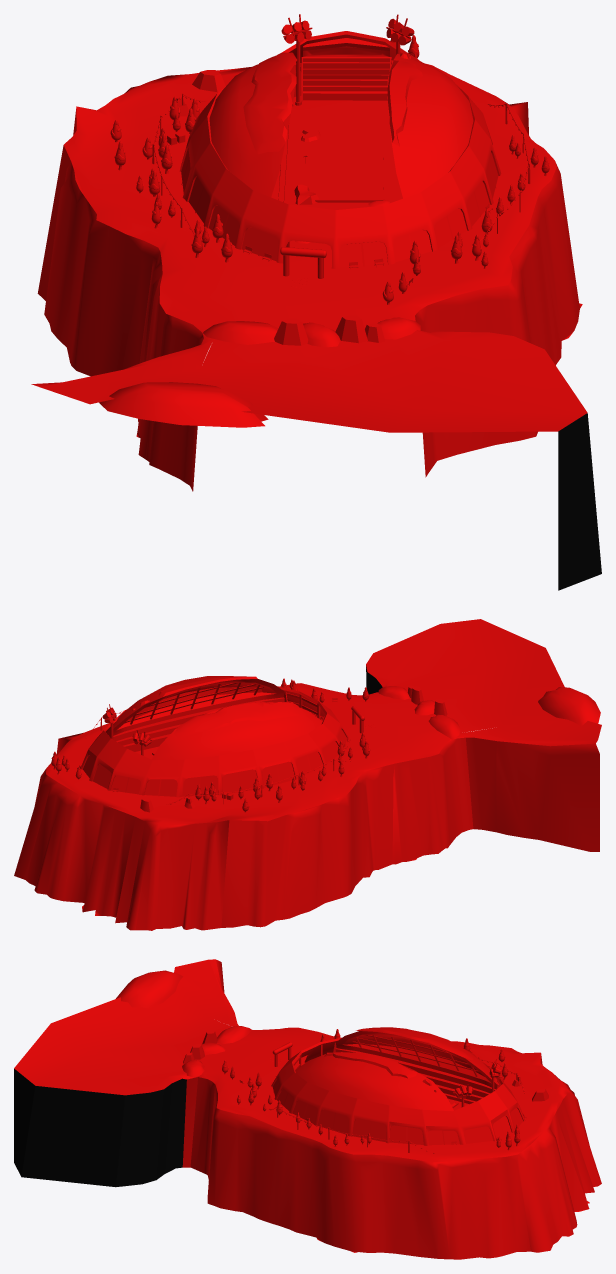
File: Individual_JamboreeSquare_02.glb
3 renders of one model, top to bottom at view 1: azimuth 30°, elevation 25°; view 2: azimuth 150°, elevation 25°; view 3: azimuth 270°, elevation 25°, orthographic. The views are drawn at different scales.
Visible parts, largest first — view 1: pasted__pasted__Berg, pasted__polySurface152, pasted__Building_JamboreeRoof, pasted__Snow, pasted__SnowPatch9, pasted__SnowPatch4, pasted__Object_IceRock5; view 2: pasted__pasted__Berg, pasted__polySurface152, pasted__Building_JamboreeRoof, pasted__Snow, pasted__SnowPatch9, pCube12, pasted__SnowPatch4; view 3: pasted__pasted__Berg, pasted__polySurface152, pasted__Building_JamboreeRoof, pasted__Snow, pasted__SnowPatch9, pCube11, pasted__SnowPatch4.
Part boxes in pixels (x1=…): pasted__pasted__Berg: x1=31, y1=63, x2=601, y2=590; pasted__polySurface152: x1=179, y1=14, x2=501, y2=268; pasted__Building_JamboreeRoof: x1=209, y1=52, x2=473, y2=198; pasted__Snow: x1=243, y1=52, x2=422, y2=204; pasted__SnowPatch9: x1=99, y1=382, x2=268, y2=427; pasted__SnowPatch4: x1=203, y1=321, x2=278, y2=344; pasted__Object_IceRock5: x1=274, y1=318, x2=308, y2=345; pasted__pasted__Berg: x1=14, y1=619, x2=601, y2=930; pasted__polySurface152: x1=81, y1=679, x2=348, y2=797; pasted__Building_JamboreeRoof: x1=113, y1=676, x2=322, y2=760; pasted__Snow: x1=132, y1=676, x2=301, y2=738; pasted__SnowPatch9: x1=538, y1=687, x2=600, y2=725; pCube12: x1=125, y1=682, x2=263, y2=724; pasted__SnowPatch4: x1=428, y1=714, x2=460, y2=739; pasted__pasted__Berg: x1=14, y1=959, x2=601, y2=1259; pasted__polySurface152: x1=271, y1=1031, x2=525, y2=1145; pasted__Building_JamboreeRoof: x1=295, y1=1030, x2=496, y2=1111; pasted__Snow: x1=324, y1=1027, x2=473, y2=1106; pasted__SnowPatch9: x1=116, y1=970, x2=183, y2=1008; pCube11: x1=352, y1=1035, x2=479, y2=1076; pasted__SnowPatch4: x1=217, y1=1026, x2=251, y2=1043.
Size of the model in its own units: 135 by 45.35 by 165.
